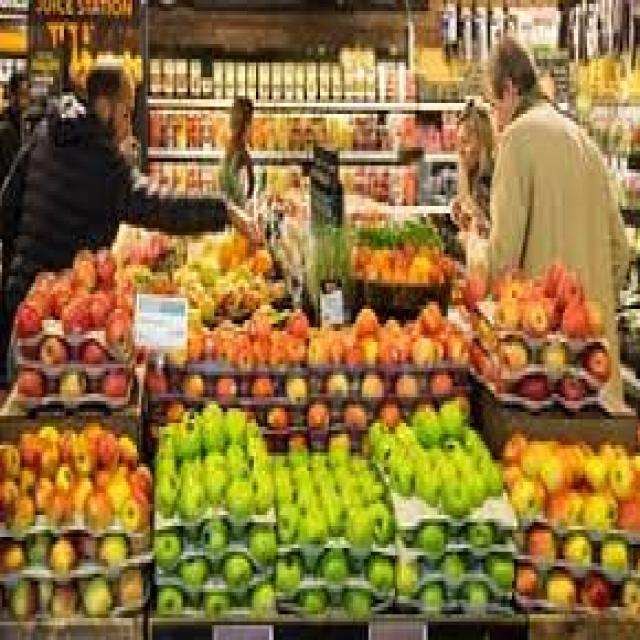organic waste: (351, 217, 437, 246), (177, 449, 205, 515), (313, 541, 351, 581), (172, 405, 201, 456), (185, 265, 214, 316), (104, 305, 132, 357), (221, 552, 256, 592), (5, 577, 38, 618), (484, 548, 516, 589), (156, 456, 178, 515), (580, 486, 616, 522), (201, 398, 225, 452), (605, 452, 633, 497), (510, 474, 543, 512), (117, 489, 150, 526), (554, 441, 583, 482), (247, 518, 274, 562), (415, 456, 439, 504), (556, 298, 587, 335), (408, 401, 439, 438), (543, 566, 576, 600), (152, 530, 183, 566), (344, 500, 371, 541), (196, 250, 223, 291), (545, 482, 578, 515), (353, 298, 382, 335), (583, 338, 609, 379), (541, 452, 569, 490), (223, 474, 251, 512), (558, 526, 590, 559), (225, 401, 249, 445), (203, 449, 227, 493), (424, 438, 450, 478), (93, 427, 119, 467), (519, 434, 547, 471), (199, 515, 227, 552), (441, 470, 468, 508), (78, 578, 110, 610), (342, 585, 373, 618), (223, 478, 254, 511), (439, 397, 466, 434), (311, 464, 338, 501), (298, 508, 329, 540), (490, 294, 523, 324), (384, 316, 406, 361), (494, 335, 528, 364), (384, 445, 408, 486), (104, 467, 128, 508), (276, 500, 298, 544), (80, 489, 112, 519), (250, 460, 270, 508), (174, 559, 210, 585), (13, 364, 44, 394), (441, 324, 470, 356), (353, 328, 382, 360), (46, 585, 78, 614), (578, 574, 609, 603), (556, 368, 587, 397), (86, 287, 113, 320), (68, 438, 95, 471), (521, 294, 547, 328), (28, 470, 51, 508), (362, 555, 391, 585), (24, 283, 53, 313), (46, 534, 73, 566), (247, 578, 274, 610), (554, 265, 580, 298), (294, 588, 333, 610), (95, 533, 128, 559), (0, 533, 26, 566), (11, 302, 40, 331), (582, 448, 604, 486), (582, 294, 604, 331), (499, 427, 527, 456), (60, 302, 88, 331), (33, 441, 60, 471), (154, 581, 181, 611), (417, 298, 441, 331), (598, 537, 625, 566), (503, 265, 530, 294), (115, 570, 141, 600), (461, 519, 492, 544), (338, 471, 364, 500), (514, 559, 539, 589), (36, 335, 66, 360), (412, 522, 446, 544), (464, 464, 484, 501), (11, 489, 31, 526), (185, 316, 203, 357), (540, 254, 562, 287), (115, 434, 137, 467), (18, 431, 40, 464), (240, 434, 262, 467), (410, 331, 435, 360), (68, 471, 93, 500), (216, 287, 241, 316), (0, 442, 20, 478), (154, 416, 174, 452), (536, 338, 567, 361), (272, 556, 304, 578), (393, 563, 417, 592), (92, 247, 112, 280), (130, 456, 150, 489), (368, 501, 388, 534), (163, 232, 183, 265), (527, 522, 552, 548), (198, 592, 232, 611), (616, 497, 638, 526), (448, 438, 470, 467), (55, 368, 84, 390), (439, 552, 464, 577), (419, 578, 444, 603), (68, 258, 93, 283), (457, 581, 485, 603), (472, 338, 490, 372), (391, 416, 415, 441), (212, 327, 232, 357), (598, 434, 625, 456), (99, 368, 126, 390), (375, 423, 395, 452), (324, 497, 344, 526), (364, 471, 384, 500), (139, 232, 159, 261), (282, 305, 304, 331), (243, 309, 269, 331), (51, 261, 73, 287), (287, 464, 313, 486), (40, 334, 66, 356), (51, 460, 68, 493), (0, 478, 15, 515), (428, 368, 453, 390), (249, 372, 274, 394), (344, 401, 369, 423), (517, 375, 545, 394), (265, 334, 289, 356), (150, 265, 174, 287), (306, 331, 326, 357), (289, 478, 316, 497), (344, 338, 366, 361), (501, 460, 521, 485), (468, 438, 488, 463), (360, 368, 380, 393), (250, 335, 270, 360), (234, 335, 249, 368), (541, 291, 558, 320), (329, 324, 346, 353), (282, 372, 304, 394), (304, 398, 326, 420), (70, 246, 92, 268), (31, 265, 53, 287), (48, 493, 70, 515), (326, 445, 348, 467), (119, 265, 141, 287), (260, 280, 282, 302), (485, 456, 501, 486), (35, 419, 60, 438), (304, 445, 329, 464), (364, 416, 380, 445), (404, 250, 421, 276), (400, 316, 420, 338), (117, 239, 137, 261), (77, 342, 106, 357), (285, 335, 302, 360), (18, 460, 35, 485), (393, 371, 415, 390), (620, 578, 638, 600), (322, 368, 344, 386), (64, 287, 90, 302), (415, 239, 435, 258), (214, 371, 234, 390), (181, 371, 201, 390), (284, 430, 304, 449), (75, 533, 95, 552), (437, 313, 452, 338), (424, 258, 441, 280), (525, 268, 541, 290), (388, 254, 404, 276), (88, 471, 113, 485), (269, 452, 287, 471), (249, 246, 267, 265), (631, 448, 638, 496), (276, 474, 291, 496), (428, 335, 446, 353), (267, 405, 285, 423), (241, 283, 258, 302), (282, 449, 304, 463), (370, 261, 390, 276), (77, 419, 97, 434), (474, 309, 490, 327), (351, 247, 371, 261), (395, 239, 413, 254), (380, 401, 395, 419), (543, 434, 560, 449), (267, 324, 285, 338), (342, 316, 358, 331), (576, 434, 589, 452), (203, 324, 212, 349), (245, 412, 260, 427), (375, 247, 391, 261), (439, 254, 450, 268), (380, 312, 392, 324), (351, 452, 364, 463)
